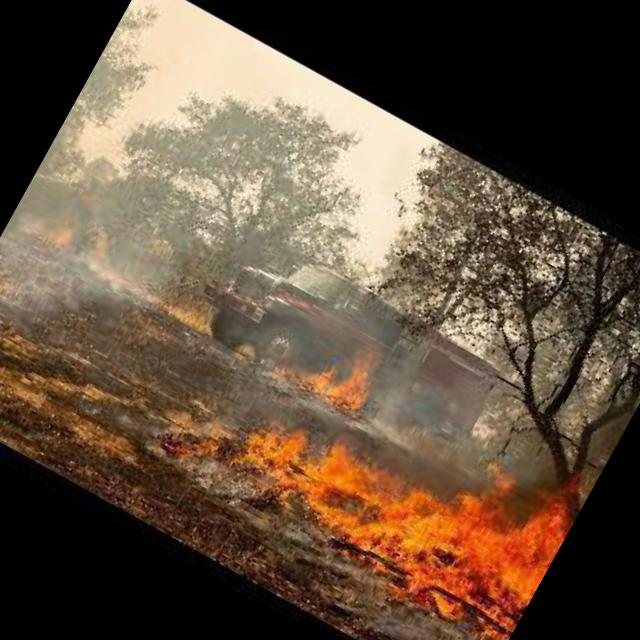fire: (207, 312, 599, 640), (272, 309, 392, 422)
